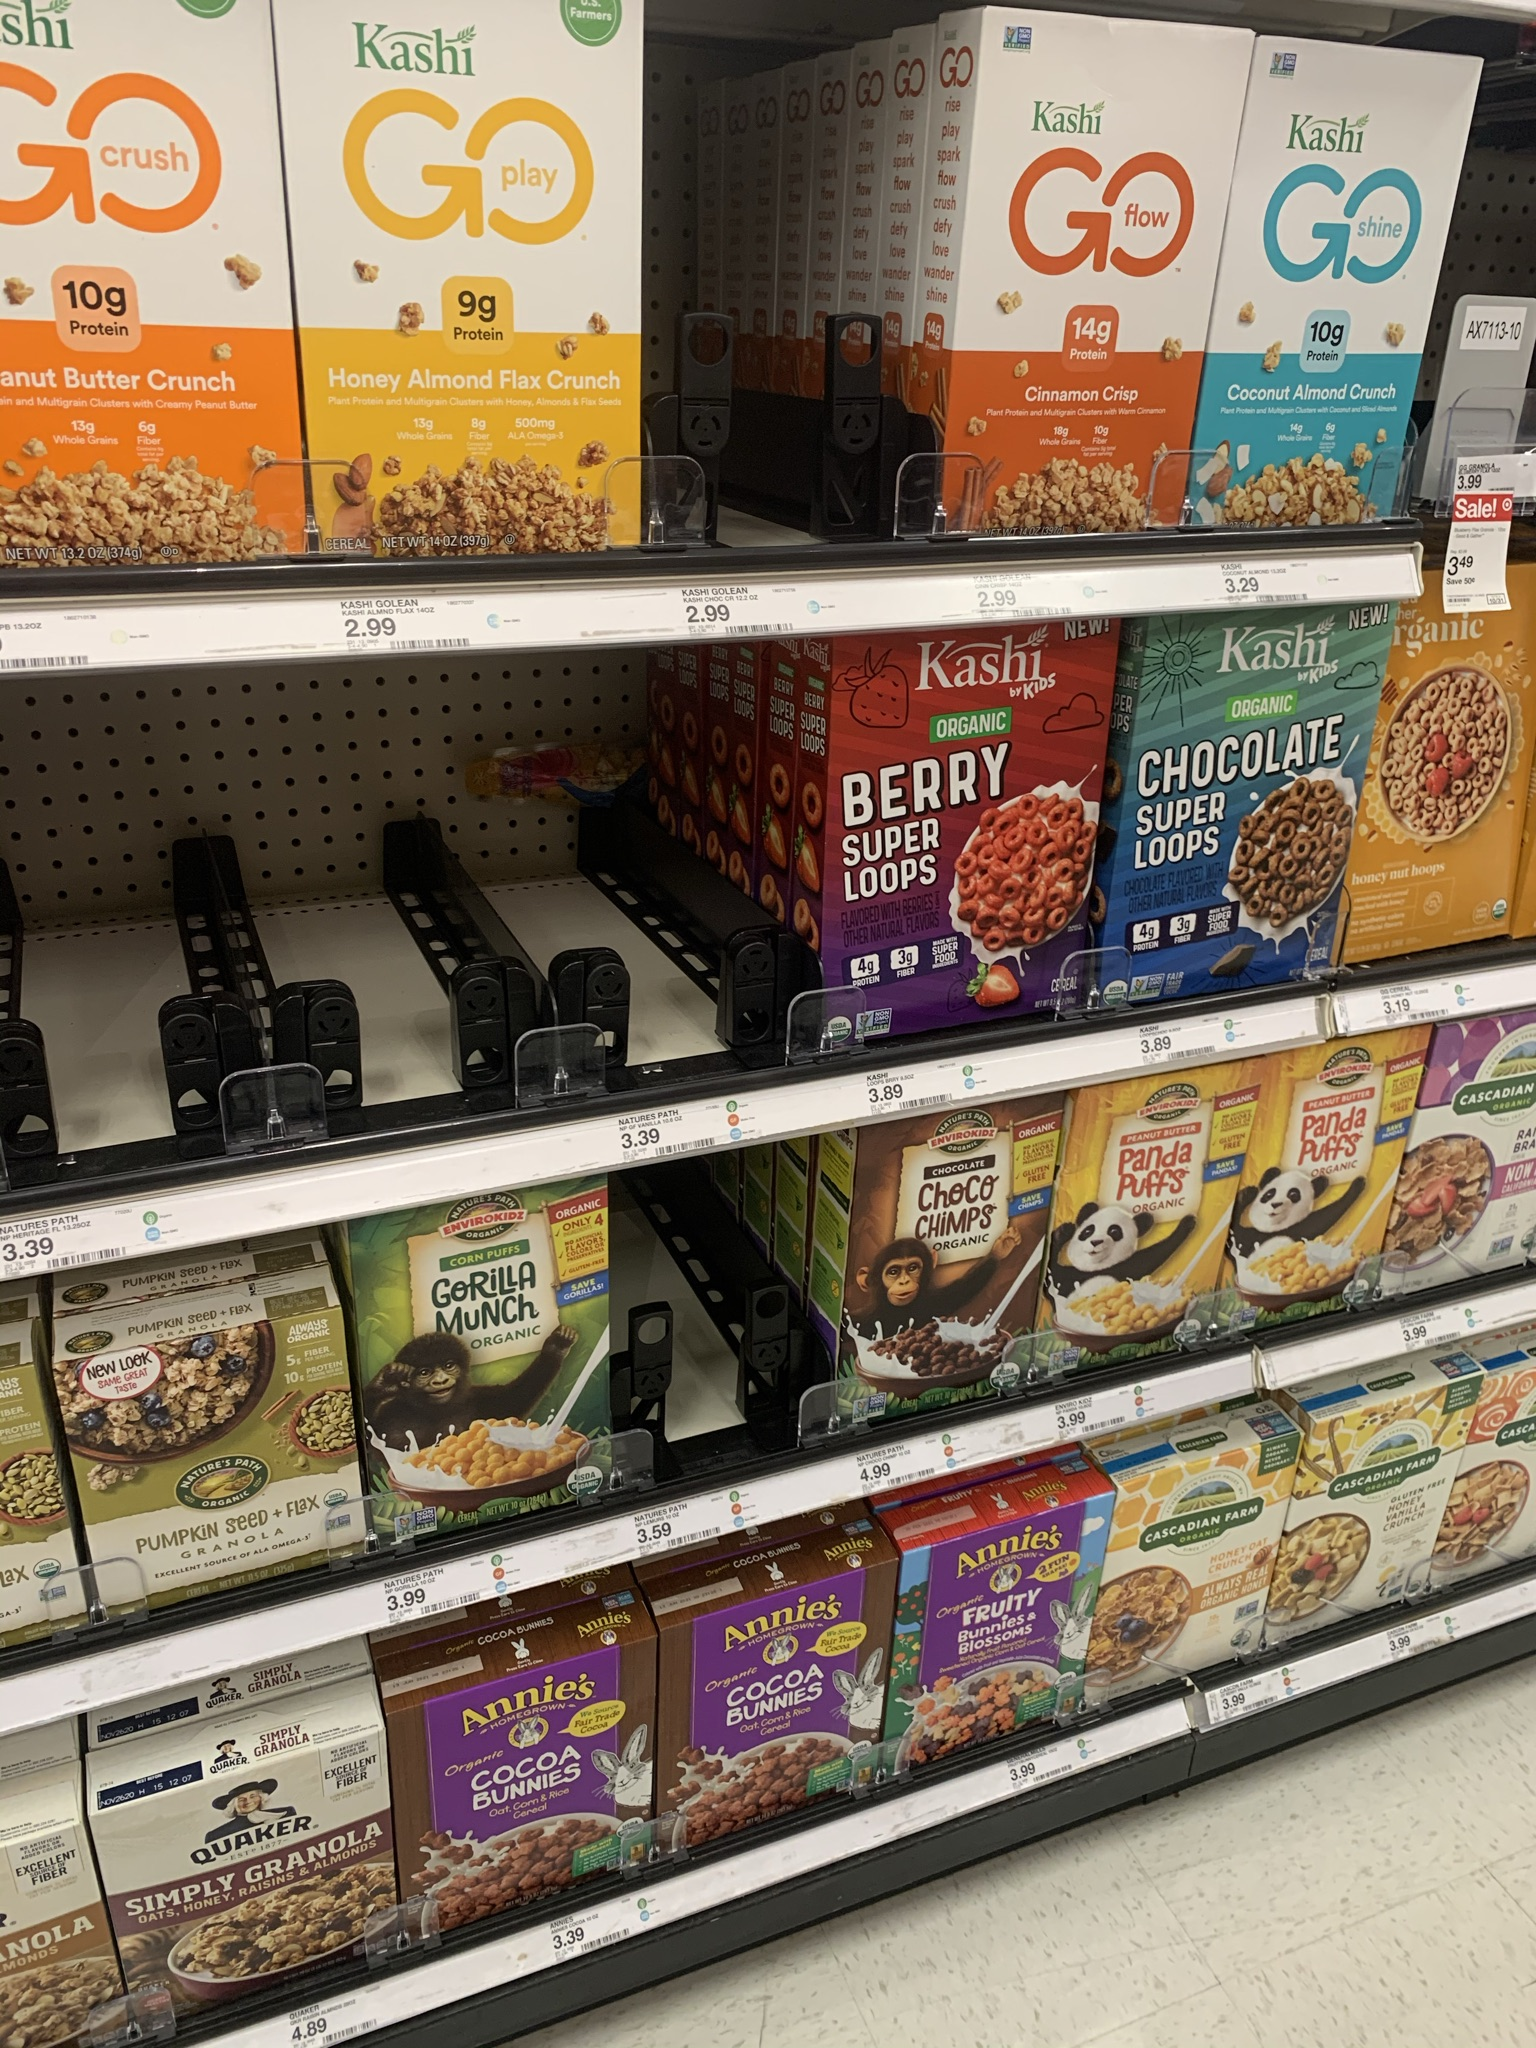cereal: (302, 11, 647, 561), (2, 15, 261, 555), (979, 16, 1202, 527), (818, 626, 1078, 1040), (1228, 35, 1439, 535), (336, 1197, 610, 1517), (1129, 610, 1344, 1016), (89, 1769, 374, 2032), (65, 1340, 361, 1580), (373, 1679, 641, 1922), (653, 1576, 870, 1866), (816, 1118, 1042, 1393), (892, 1496, 1075, 1780), (1102, 1434, 1279, 1713), (1055, 1077, 1212, 1355), (1254, 1035, 1396, 1329)
